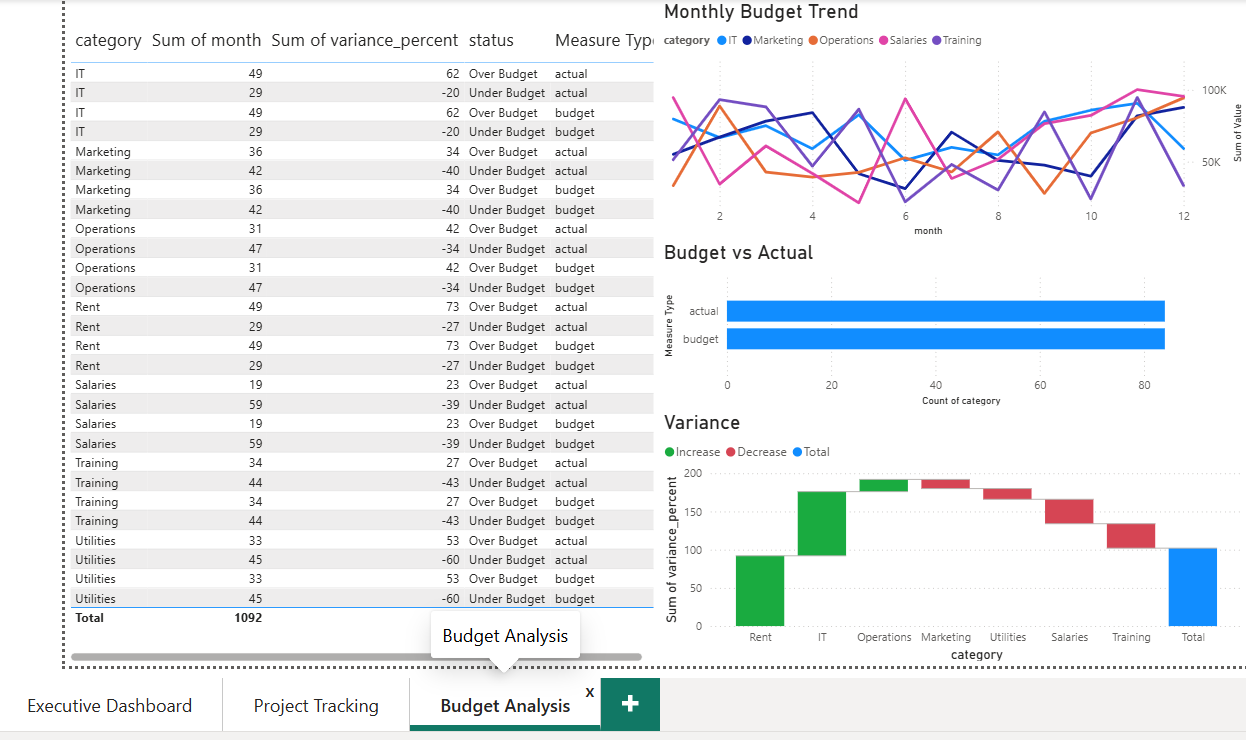

What the dashboard file says about the page in this screenshot:
{"tool":"powerbi","page":{"name":"Budget Analysis","canvas":[1280,720],"ordinal":2},"visuals":[{"type":"clusteredBarChart","title":"Budget vs Actual","fields":{"Y":["CountNonNull(budget_vs_actual.category)"],"Category":["budget_vs_actual.Measure Type"]},"box":[640.6,260.8,591.5,183.3],"z":0},{"type":"waterfallChart","title":"Variance","fields":{"Category":["budget_vs_actual.category"],"Y":["Sum(budget_vs_actual.variance_percent)"]},"box":[640.6,444.1,635,275.9],"z":1000},{"type":"lineChart","title":"Monthly Budget Trend","fields":{"Category":["budget_vs_actual.month"],"Series":["budget_vs_actual.category"],"Y2":["Sum(budget_vs_actual.Value)"]},"box":[640.6,0,635,260.8],"z":2000},{"type":"tableEx","fields":{"Values":["budget_vs_actual.category","Sum(budget_vs_actual.month)","Sum(budget_vs_actual.variance_percent)","budget_vs_actual.status","budget_vs_actual.Measure Type"]},"box":[0,24.6,640.6,695.4],"z":3000}]}

Visuals, with their boxes on the page's 1280x720 design canvas (x1, y1, x2, y2). These are canvas units, not pixel positions in the 1246x740 screenshot, which may show the page scaled, cropped or inside an application window:
"Budget vs Actual" clusteredBarChart: <bbox>641, 261, 1232, 444</bbox>
"Variance" waterfallChart: <bbox>641, 444, 1276, 720</bbox>
"Monthly Budget Trend" lineChart: <bbox>641, 0, 1276, 261</bbox>
tableEx - budget_vs_actual.category x Sum(budget_vs_actual.month): <bbox>0, 25, 641, 720</bbox>
